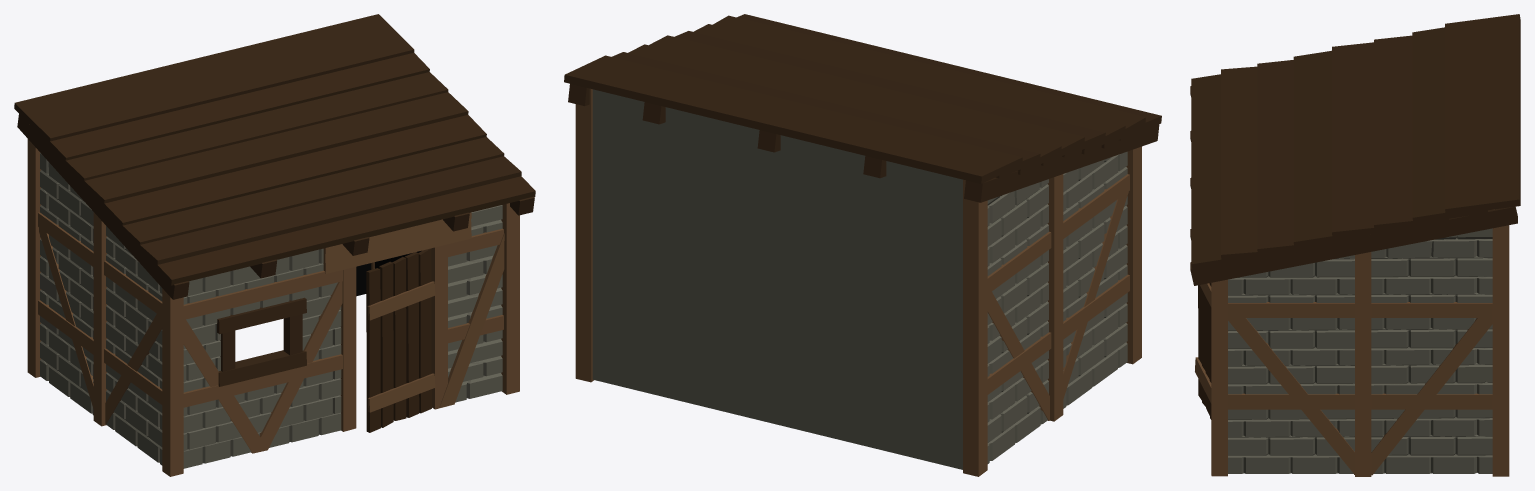
File: Shack_001.fbx
3 renders of one model, left to right at view 1: azimuth 30°, elevation 25°; view 2: azimuth 150°, elevation 25°; view 3: azimuth 270°, elevation 25°, orthographic. The views are drawn at different scales.
Visible parts, largest first — view 1: Cube.002; view 2: Cube.002; view 3: Cube.002.
Part boxes in pixels (x1=…): Cube.002: x1=14, y1=14, x2=535, y2=476; Cube.002: x1=564, y1=14, x2=1161, y2=476; Cube.002: x1=1190, y1=14, x2=1520, y2=476.
Bounding box in the file's own units: 517 × 364 × 389.
